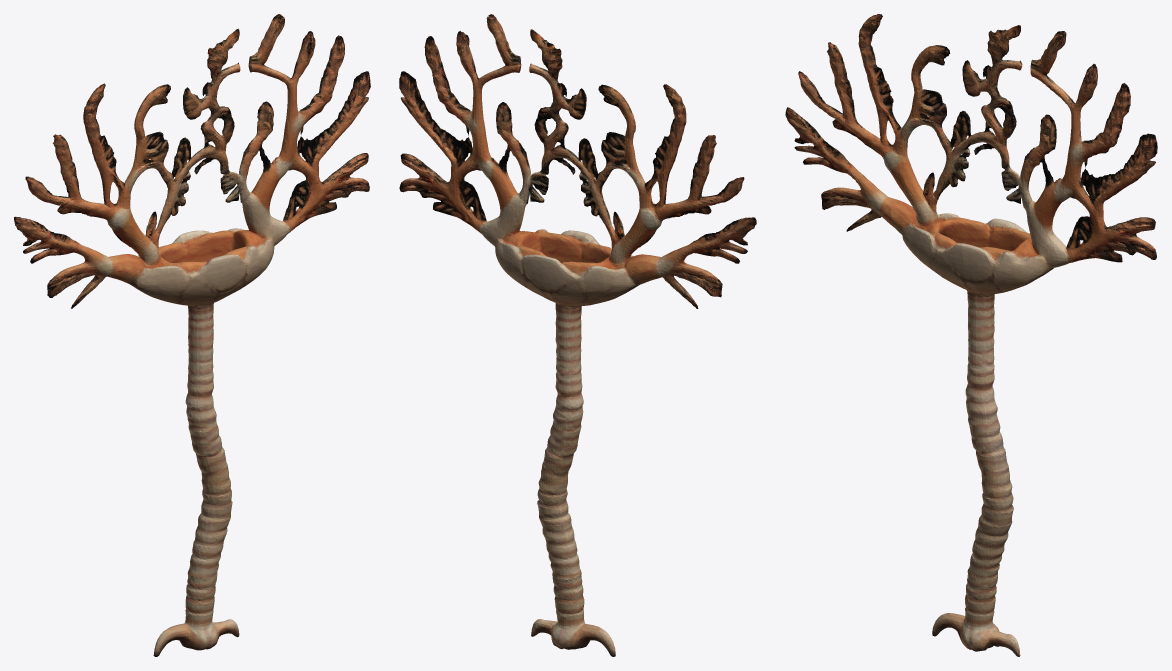
3 renders of one model, left to right at view 1: azimuth 30°, elevation 25°; view 2: azimuth 150°, elevation 25°; view 3: azimuth 330°, elevation 25°, orthographic. The views are drawn at different scales.
Parts seen in each view (by area): view 1: world; view 2: world; view 3: world.
Part boxes in pixels (x1=…): world: x1=14, y1=14, x2=370, y2=656; world: x1=399, y1=14, x2=756, y2=656; world: x1=785, y1=14, x2=1157, y2=656.
Size of the model in its own units: 0.6106 by 1 by 0.1109.
Materials: 1 (1 with a texture image).
